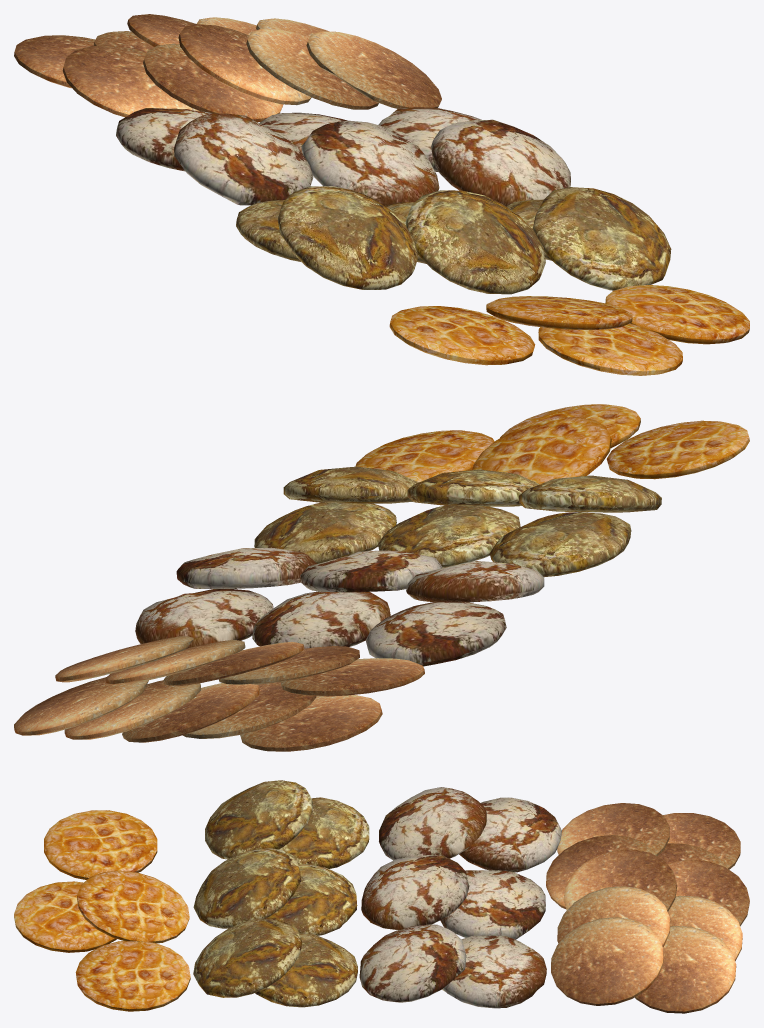
Rendered from bread_booth01_LOD01.fbx.
3 views of the same model, one above another, from view 1: azimuth 30°, elevation 25°; view 2: azimuth 150°, elevation 25°; view 3: azimuth 270°, elevation 25° (orthographic). The views are drawn at different scales.
Visible parts, largest first — view 1: Mesh Object; view 2: Mesh Object; view 3: Mesh Object.
Boxes of the visible parts, x1,y1,x2,y2 form: Mesh Object: [14, 14, 749, 375]; Mesh Object: [14, 404, 749, 751]; Mesh Object: [14, 780, 749, 1013].
Bounding box in the file's own units: 0.8614 × 0.2836 × 1.85.
